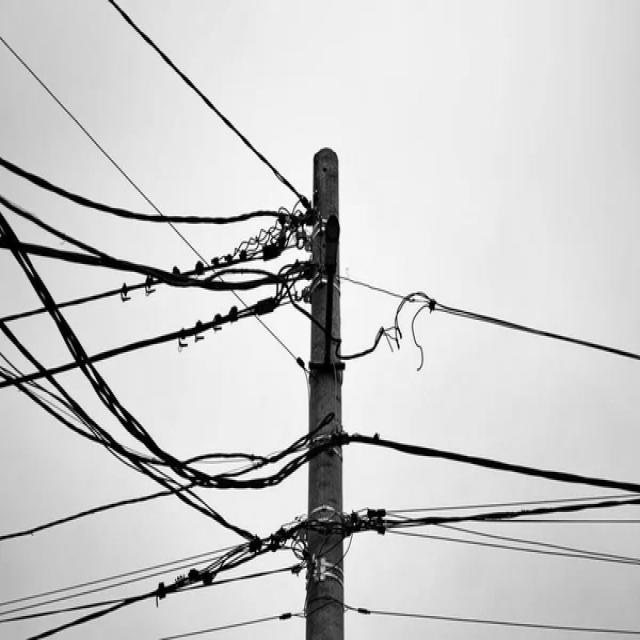Pole: (310, 147, 344, 640)
